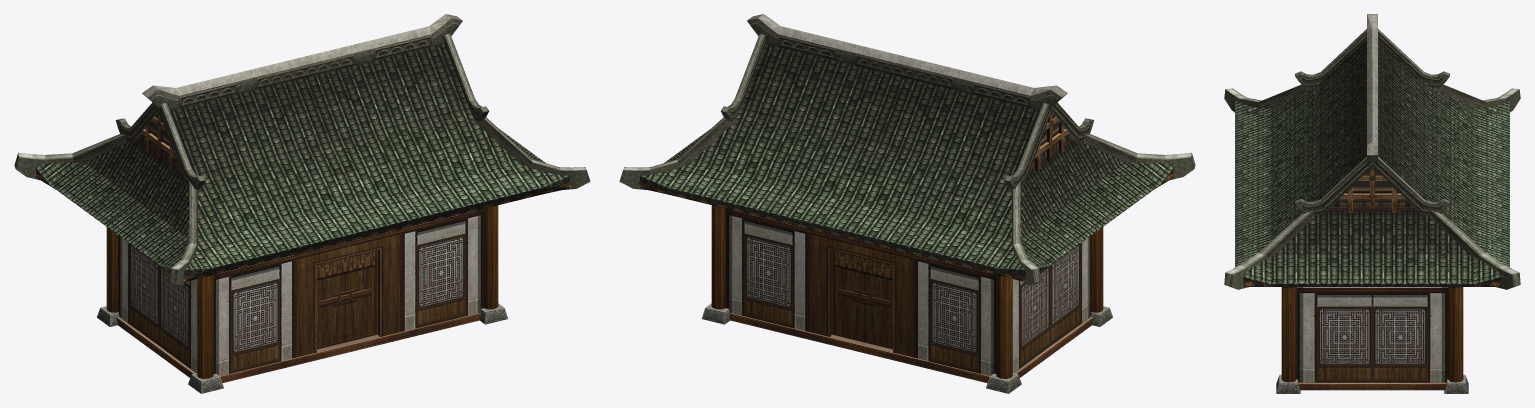
File: c1-016-house9.fbx
The picture shows the model from 3 angles, left to right: view 1: azimuth 30°, elevation 25°; view 2: azimuth 150°, elevation 25°; view 3: azimuth 270°, elevation 25°; orthographic projection. The views are drawn at different scales.
Parts seen in each view (by area): view 1: b1-016-house9; view 2: b1-016-house9; view 3: b1-016-house9.
Boxes of the visible parts, x1=… form: b1-016-house9: x1=14, y1=14, x2=590, y2=393; b1-016-house9: x1=619, y1=14, x2=1195, y2=393; b1-016-house9: x1=1224, y1=14, x2=1520, y2=393.
Bounding box in the file's own units: 11.71 × 7.08 × 7.76.
